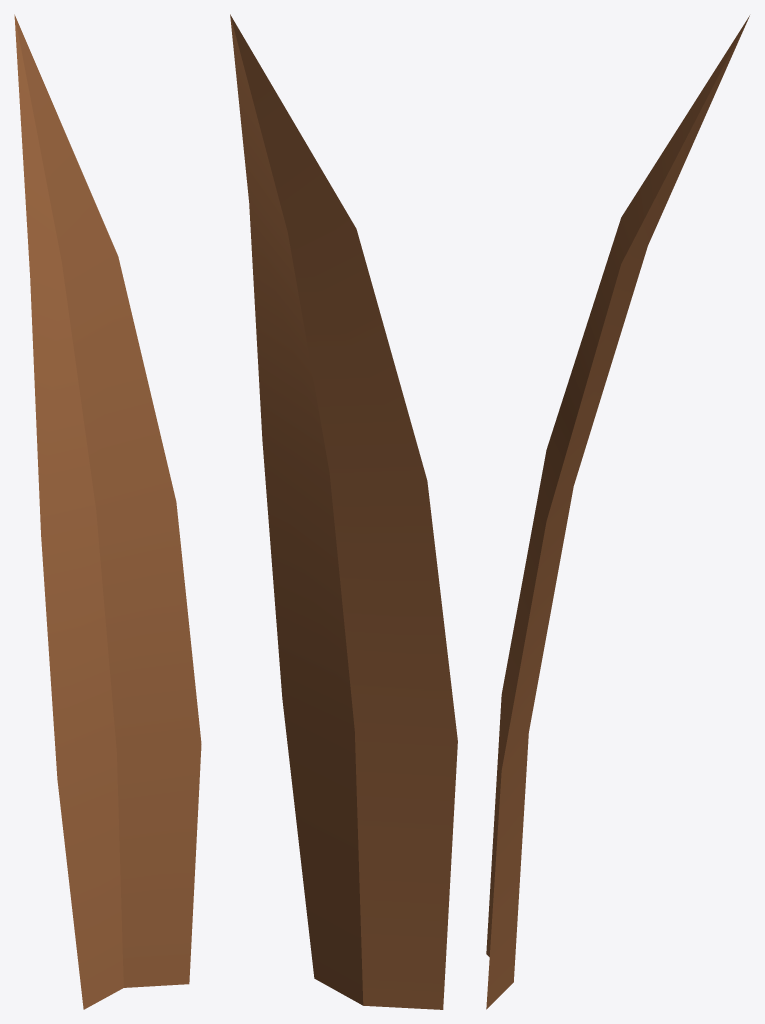
File: itch_kaykit_forest_grass_2_singlesided_mesh.glb
3 views of the same model, side by side, from view 1: azimuth 30°, elevation 25°; view 2: azimuth 150°, elevation 25°; view 3: azimuth 270°, elevation 25° (orthographic). The views are drawn at different scales.
Parts seen in each view (by area): view 1: Grass_2_SingleSided_Mesh; view 2: Grass_2_SingleSided_Mesh; view 3: Grass_2_SingleSided_Mesh.
Boxes of the visible parts, x1=… form: Grass_2_SingleSided_Mesh: x1=14, y1=14, x2=201, y2=1009; Grass_2_SingleSided_Mesh: x1=230, y1=14, x2=457, y2=1009; Grass_2_SingleSided_Mesh: x1=486, y1=15, x2=749, y2=1009.
Bounding box in the file's own units: 0.3122 × 1.85 × 0.4578.
